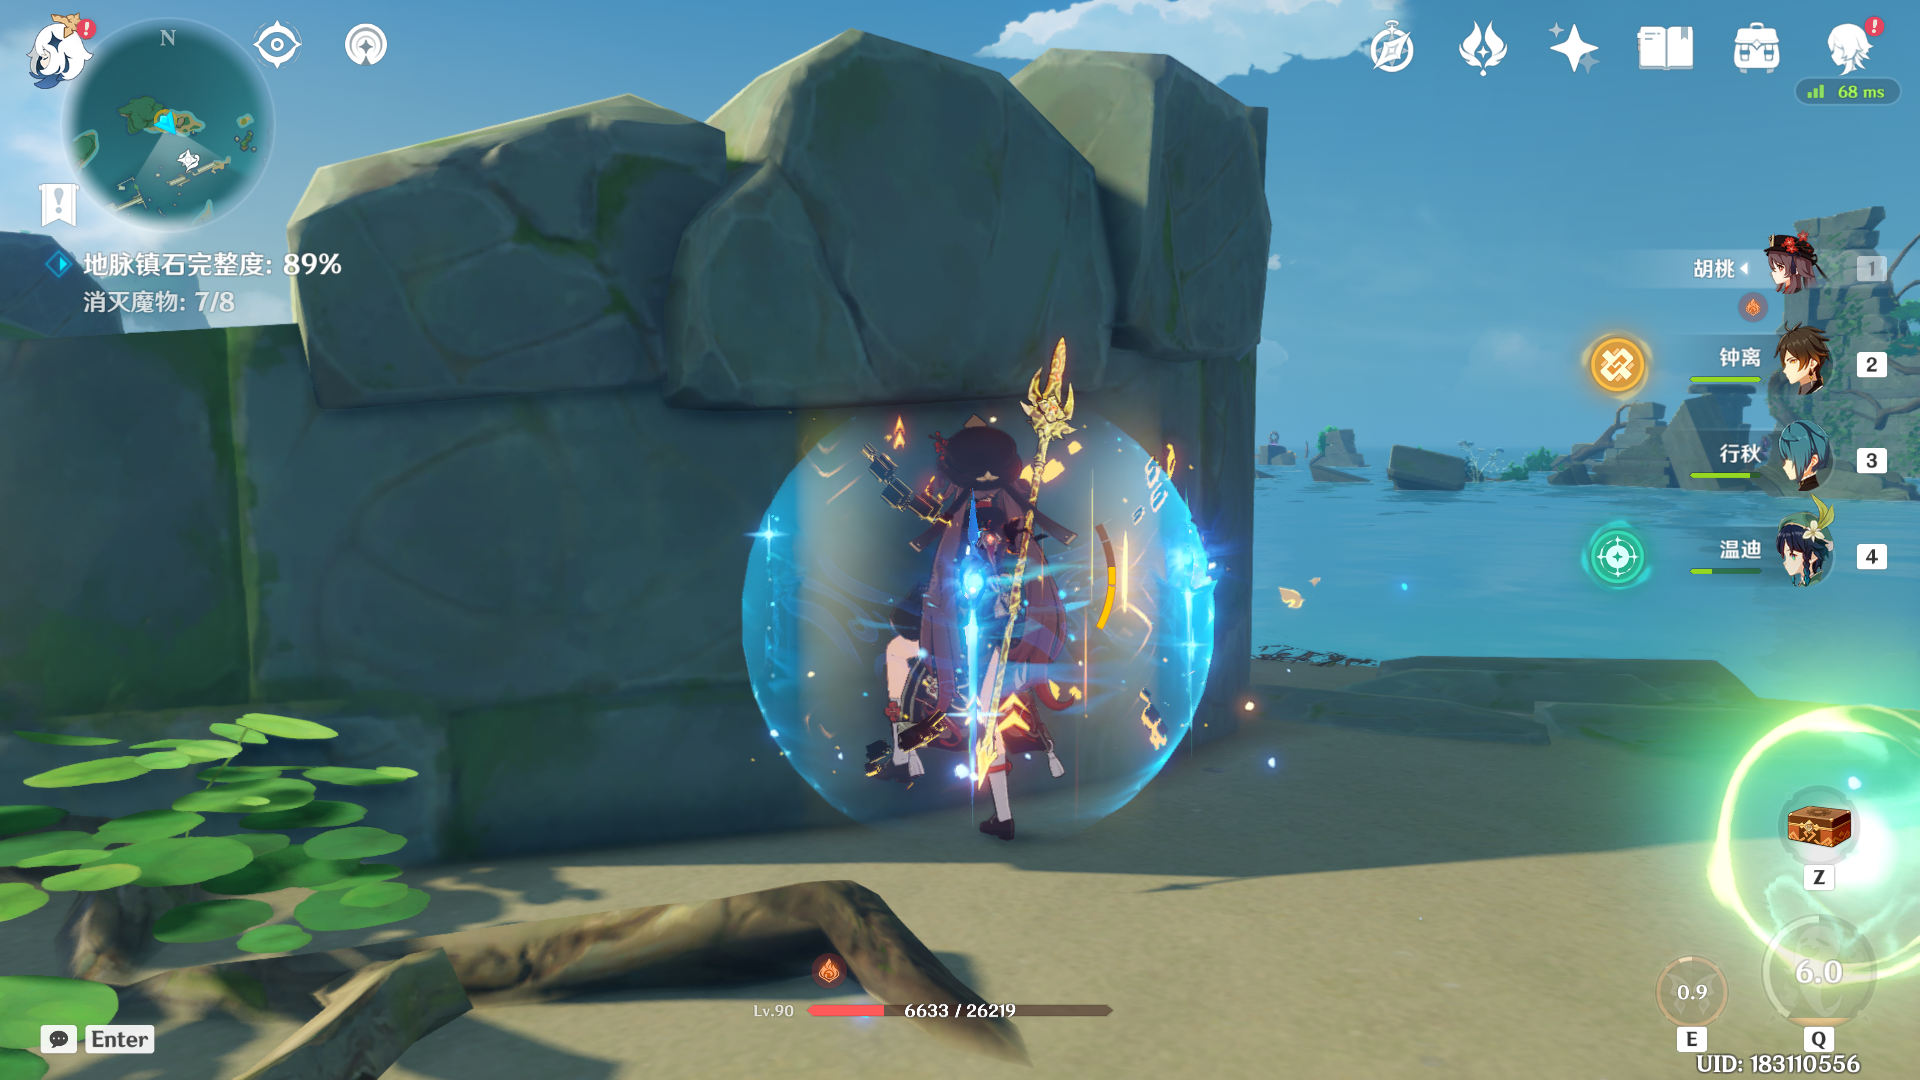character: (800, 409, 1149, 864)
